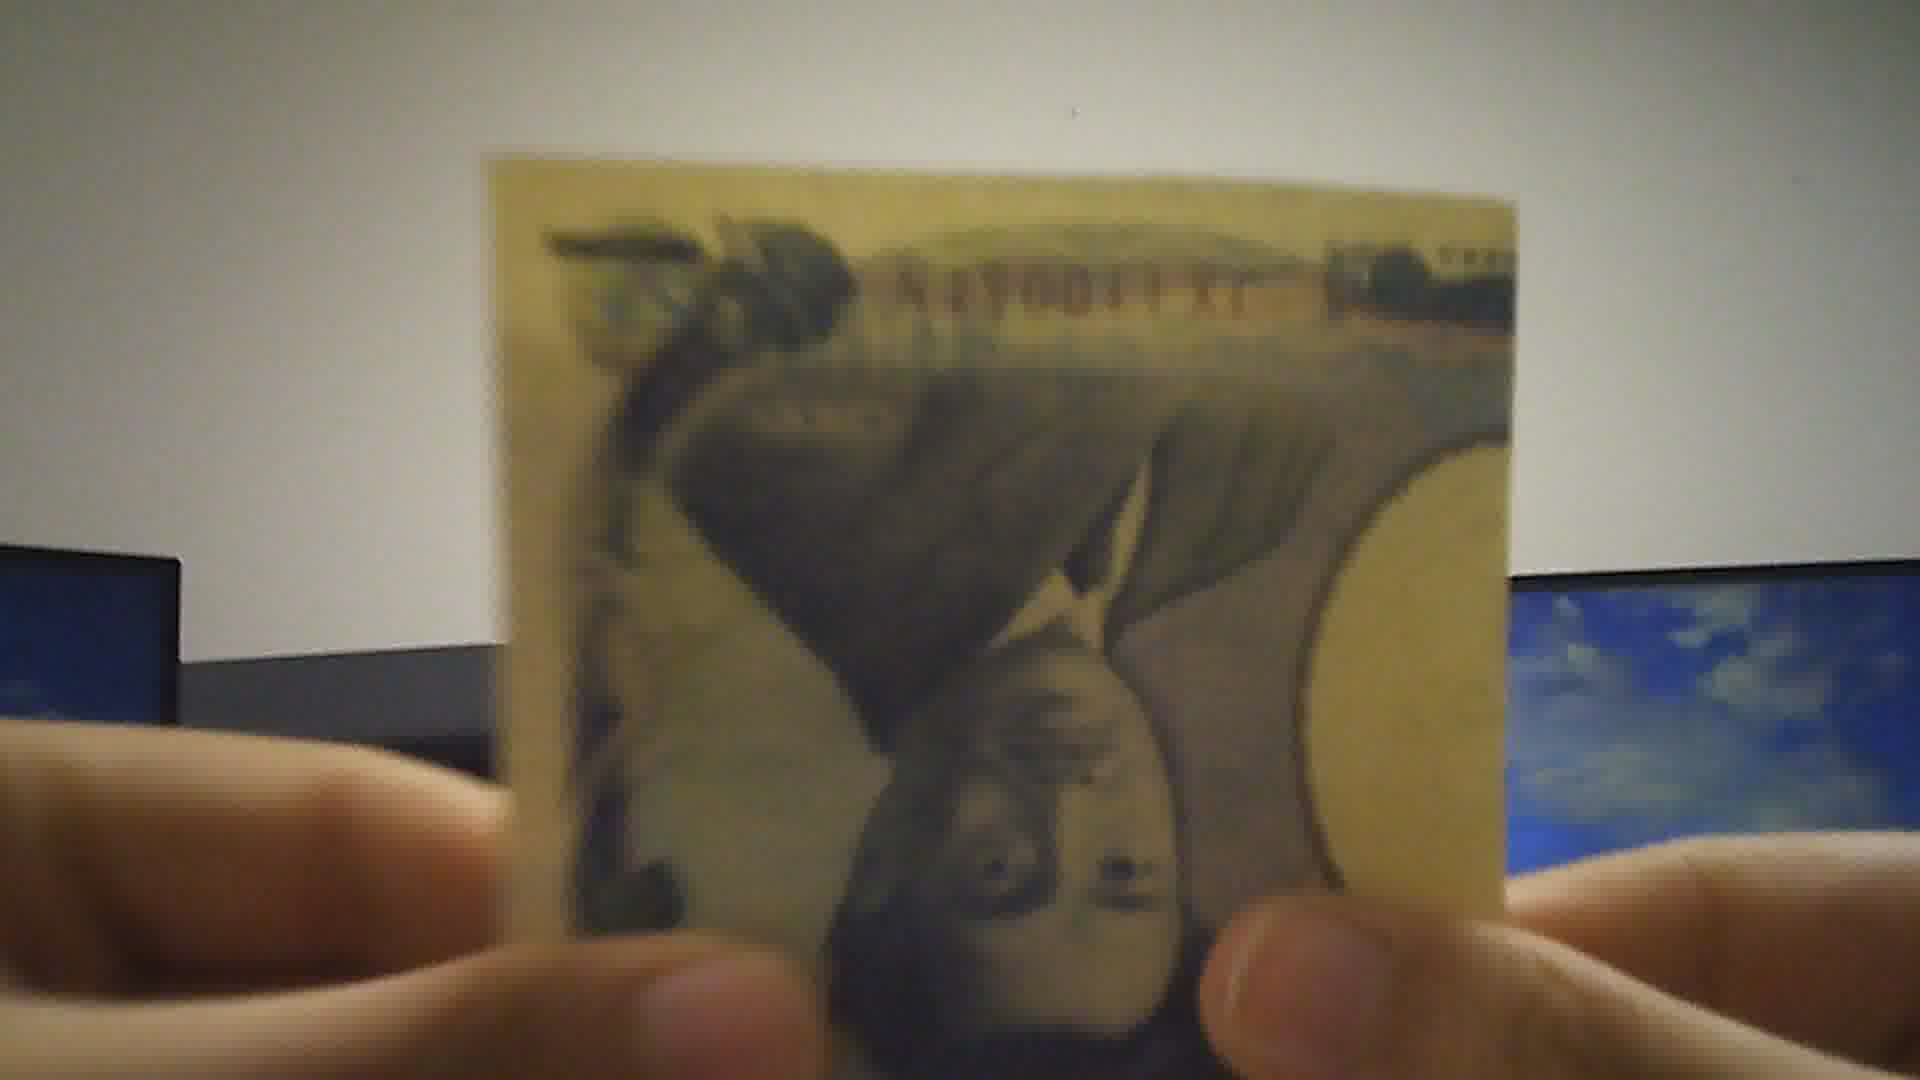1,000 Yen: (472, 142, 1526, 1079)
